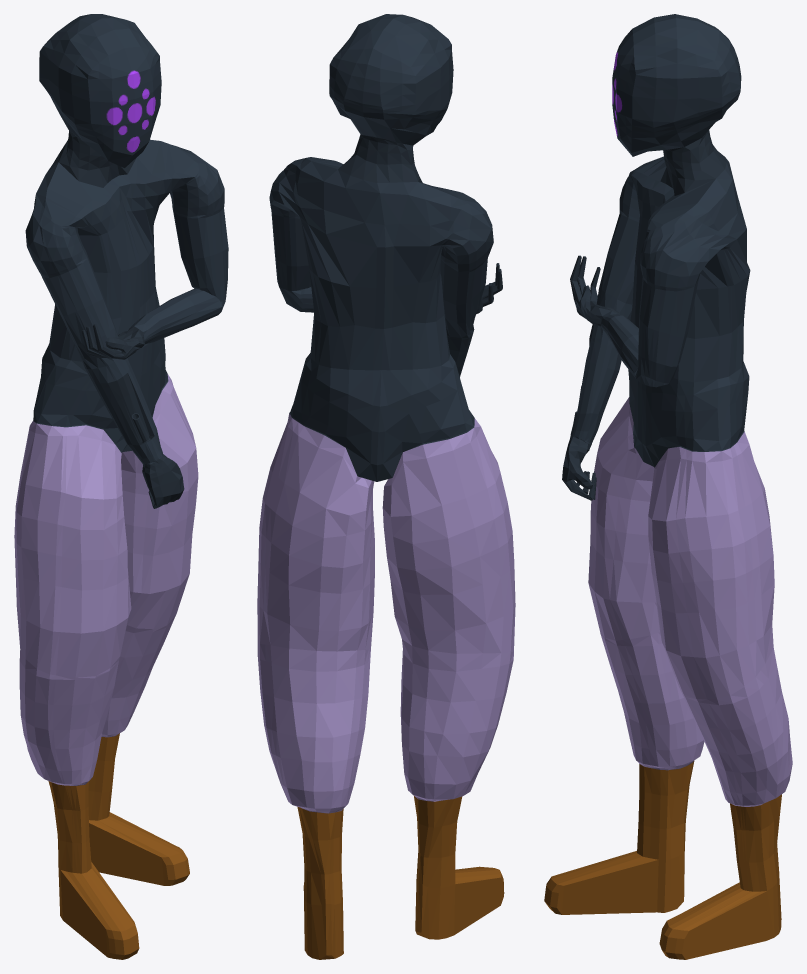
Rendered from Oracle_Reload_000015.obj.
The picture shows the model from 3 angles, left to right: view 1: azimuth 30°, elevation 25°; view 2: azimuth 150°, elevation 25°; view 3: azimuth 270°, elevation 25°; orthographic projection. The views are drawn at different scales.
Parts seen in each view (by area): view 1: Cube; view 2: Cube; view 3: Cube.
Boxes of the visible parts, <box> form: Cube: <box>14,14,228,959</box>; Cube: <box>257,14,515,959</box>; Cube: <box>544,14,792,959</box>.
Size of the model in its own units: 0.984 by 3.94 by 0.9762.
